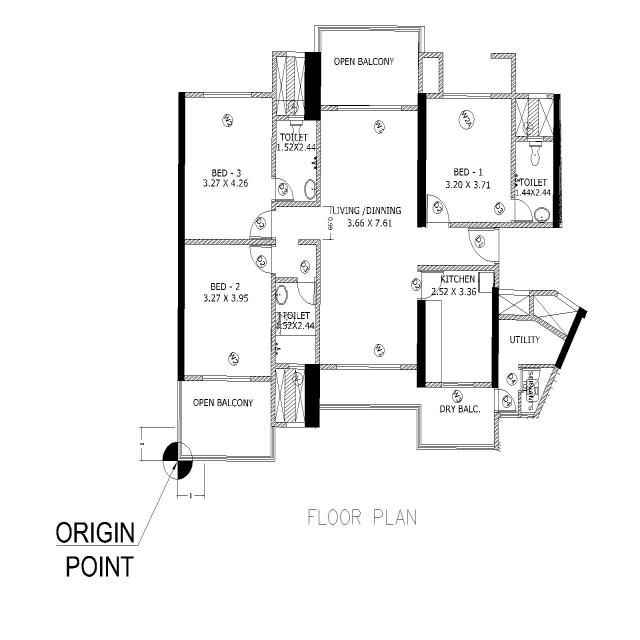Column: (176, 90, 186, 382), (417, 91, 428, 229), (304, 50, 322, 123), (553, 91, 562, 229), (304, 362, 320, 428), (491, 286, 500, 390), (416, 297, 426, 389)
Door: (270, 208, 277, 240), (492, 386, 500, 412), (425, 220, 450, 228), (494, 226, 499, 263), (270, 246, 276, 276), (417, 268, 422, 300), (296, 276, 316, 284), (510, 196, 516, 222), (271, 175, 276, 201), (520, 366, 524, 392)
Ventilator: (526, 134, 545, 142), (288, 362, 306, 370), (288, 113, 304, 121)
Window: (335, 104, 403, 112), (334, 363, 402, 371), (201, 374, 253, 384), (202, 90, 252, 100), (442, 92, 492, 100), (440, 379, 475, 389)
